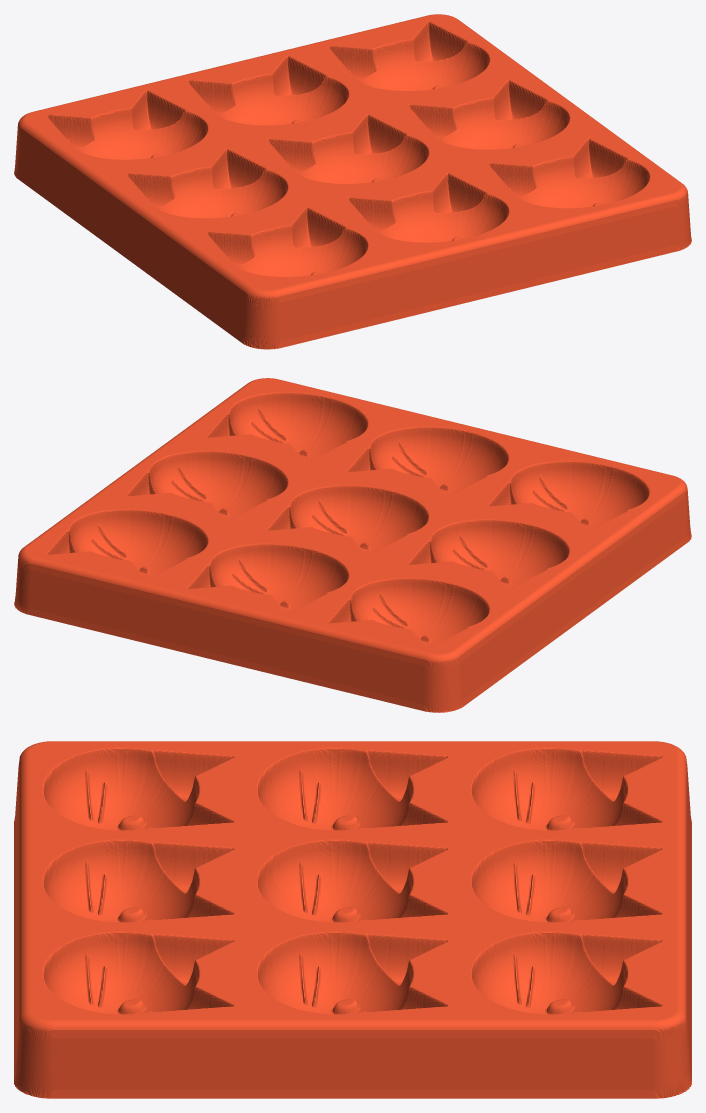
File: mold.glb
The picture shows the model from 3 angles, top to bottom: view 1: azimuth 30°, elevation 25°; view 2: azimuth 150°, elevation 25°; view 3: azimuth 270°, elevation 25°; orthographic projection. The views are drawn at different scales.
Visible parts, largest first — view 1: geometry_0; view 2: geometry_0; view 3: geometry_0.
Boxes of the visible parts, x1,y1,x2,y2 form: geometry_0: (14, 14, 691, 349); geometry_0: (14, 378, 691, 712); geometry_0: (14, 741, 691, 1098).
Bounding box in the file's own units: 0.1595 × 0.0185 × 0.1571.
